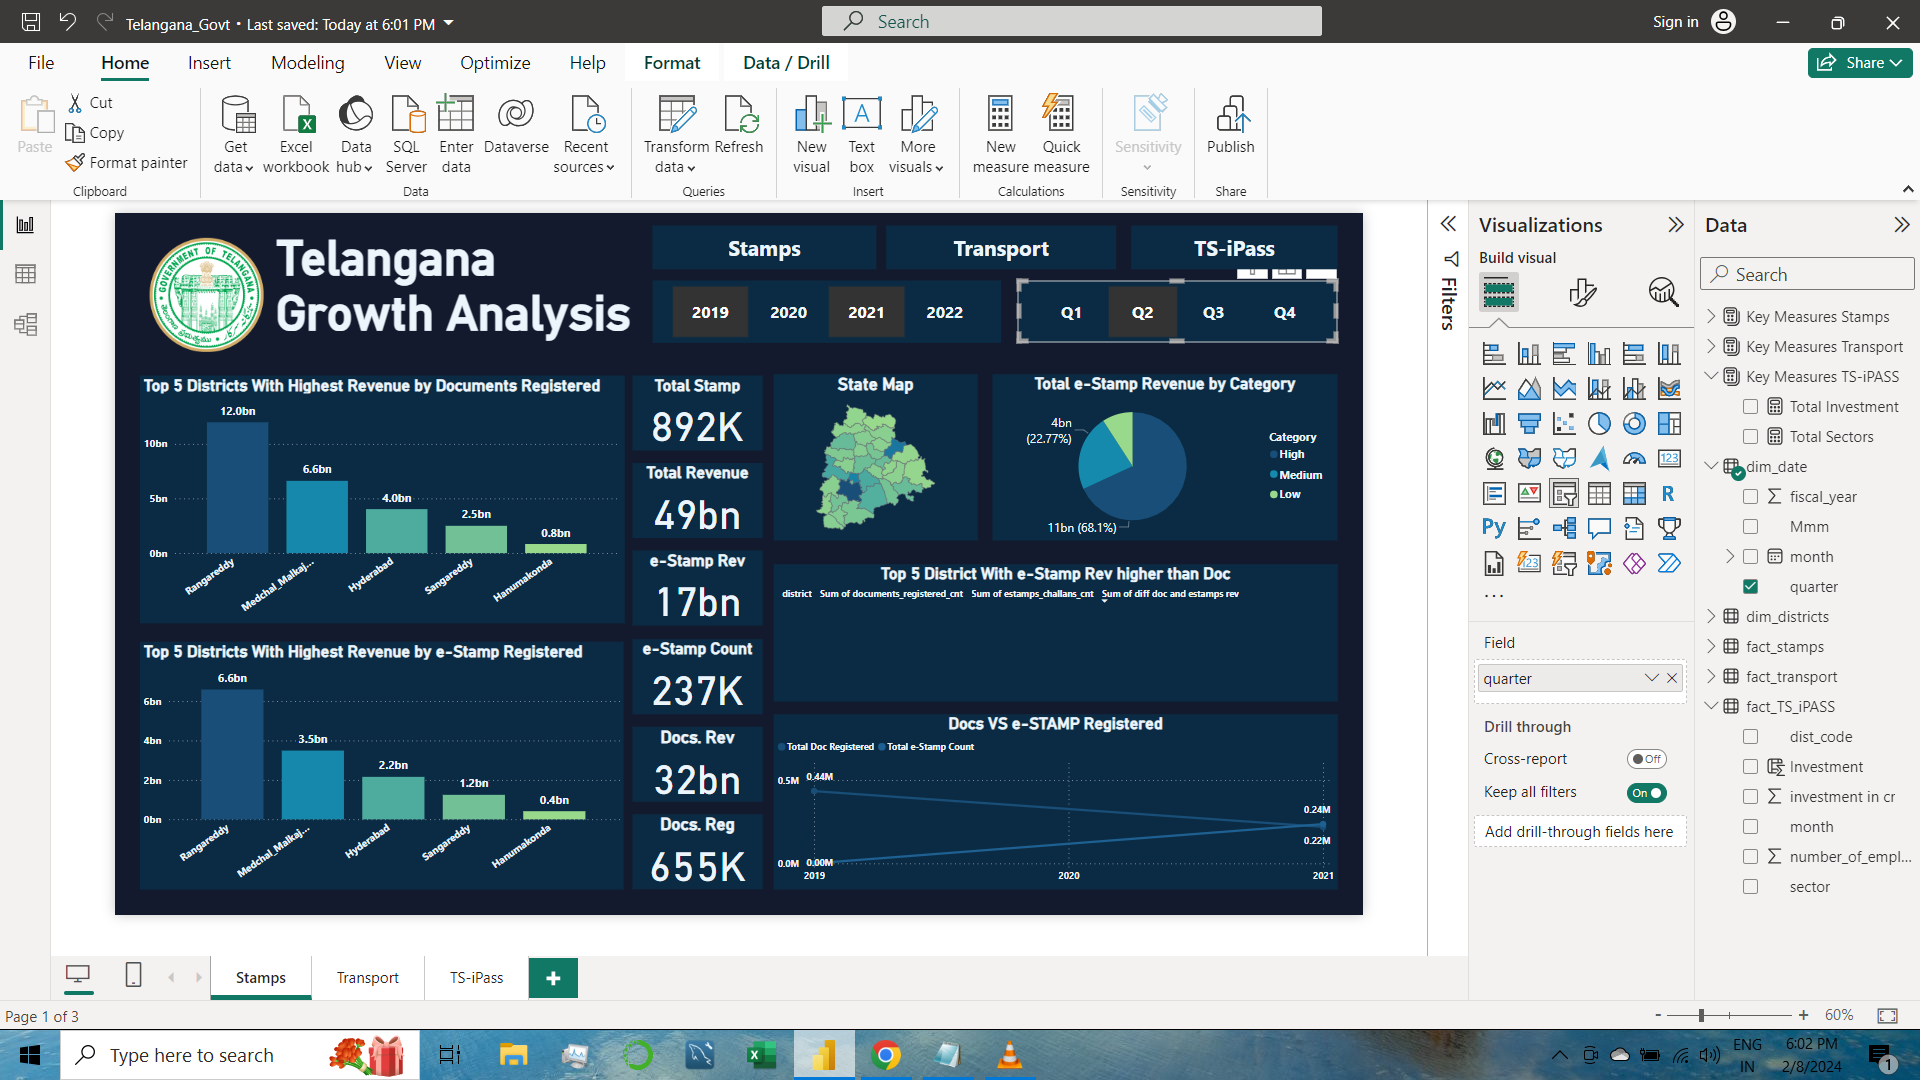

This screenshot's page, from the dashboard's own definition file:
{"tool":"powerbi","page":{"name":"Stamps","canvas":[1664,936],"ordinal":0},"visuals":[{"type":"slicer","fields":{"Values":["dim_date.fiscal_year"]},"box":[716.7,90,465,83.3],"z":0},{"type":"slicer","fields":{"Values":["dim_date.quarter"]},"box":[1203.3,90,426.7,83.3],"z":1000},{"type":"clusteredColumnChart","title":"Top 5 Districts With Highest Revenue by Documents Registered","fields":{"Y":["Key Measures.Total Docs Reg Revenue"],"Category":["dim_districts.district"]},"box":[34,216,646,330],"z":2000},{"type":"clusteredColumnChart","title":"Top 5 Districts With Highest Revenue by e-Stamp Registered","fields":{"Y":["Key Measures.Total e-Stamp Revenue"],"Category":["dim_districts.district"]},"box":[33.3,571.7,645,330],"z":3000},{"type":"lineChart","title":"Docs VS e-STAMP Registered","fields":{"Y":["Key Measures.Total Doc Registered","Key Measures.Total e-Stamp Count"],"Category":["dim_date.fiscal_year"]},"box":[878.3,668.3,751.7,233.3],"z":4000},{"type":"tableEx","title":"Top 5 District With e-Stamp Rev higher than Doc","fields":{"Values":["dim_districts.district","Sum(fact_stamps.documents_registered_cnt)","Sum(fact_stamps.estamps_challans_cnt)","Sum(fact_stamps.diff doc and estamps rev)"]},"box":[878.3,468.3,751.7,183.3],"z":5000},{"type":"pieChart","fields":{"Y":["Key Measures.Total e-Stamp Revenue"],"Category":["fact_stamps.Category"]},"box":[1170,215,460,221.7],"z":6000},{"type":"card","title":"Docs. Reg","fields":{"Values":["Key Measures.Total Doc Registered"]},"box":[690,801.7,173.3,100],"z":7000},{"type":"card","title":"Docs. Rev","fields":{"Values":["Key Measures.Total Docs Reg Revenue"]},"box":[690,684.7,173.3,100],"z":8000},{"type":"card","title":"e-Stamp Count","fields":{"Values":["Key Measures.Total e-Stamp Count"]},"box":[690,567.7,173.3,100],"z":9000},{"type":"card","title":"e-Stamp Rev","fields":{"Values":["Key Measures.Total e-Stamp Revenue"]},"box":[690,450.7,173.3,100],"z":10000},{"type":"shapeMap","title":"State Map","fields":{"Category":["dim_districts.district"],"Value":["Key Measures Stamps.Total Doc Registered"]},"box":[878.3,215,271.7,221.7],"z":11000},{"type":"card","title":"Total Revenue","fields":{"Values":["Key Measures.Total Revenue"]},"box":[690,333.7,173.3,100],"z":12000},{"type":"card","title":"Total Stamp","fields":{"Values":["Key Measures.Total Stamps"]},"box":[690,216.7,173.3,100],"z":13000},{"type":"image","box":[33.3,28.3,176.7,161.7],"z":14000},{"type":"textbox","box":[210,16.7,506.7,173.3],"z":15000},{"type":"actionButton","box":[716.7,16.7,298.3,58.3],"z":16000},{"type":"actionButton","box":[1355,16.7,275,58.3],"z":17000},{"type":"actionButton","box":[1028.3,16.7,306.7,58.3],"z":18000}]}

Visuals, with their boxes on the page's 1664x936 design canvas (x1, y1, x2, y2). These are canvas units, not pixel positions in the 1920x1080 screenshot, which may show the page scaled, cropped or inside an application window:
slicer - dim_date.fiscal_year: (left=717, top=90, right=1182, bottom=173)
slicer - dim_date.quarter: (left=1203, top=90, right=1630, bottom=173)
"Top 5 Districts With Highest Revenue by Documents Registered" clusteredColumnChart: (left=34, top=216, right=680, bottom=546)
"Top 5 Districts With Highest Revenue by e-Stamp Registered" clusteredColumnChart: (left=33, top=572, right=678, bottom=902)
"Docs VS e-STAMP Registered" lineChart: (left=878, top=668, right=1630, bottom=902)
"Top 5 District With e-Stamp Rev higher than Doc" tableEx: (left=878, top=468, right=1630, bottom=652)
pieChart - Key Measures.Total e-Stamp Revenue x fact_stamps.Category: (left=1170, top=215, right=1630, bottom=437)
"Docs. Reg" card: (left=690, top=802, right=863, bottom=902)
"Docs. Rev" card: (left=690, top=685, right=863, bottom=785)
"e-Stamp Count" card: (left=690, top=568, right=863, bottom=668)
"e-Stamp Rev" card: (left=690, top=451, right=863, bottom=551)
"State Map" shapeMap: (left=878, top=215, right=1150, bottom=437)
"Total Revenue" card: (left=690, top=334, right=863, bottom=434)
"Total Stamp" card: (left=690, top=217, right=863, bottom=317)
image: (left=33, top=28, right=210, bottom=190)
textbox: (left=210, top=17, right=717, bottom=190)
actionButton: (left=717, top=17, right=1015, bottom=75)
actionButton: (left=1355, top=17, right=1630, bottom=75)
actionButton: (left=1028, top=17, right=1335, bottom=75)
